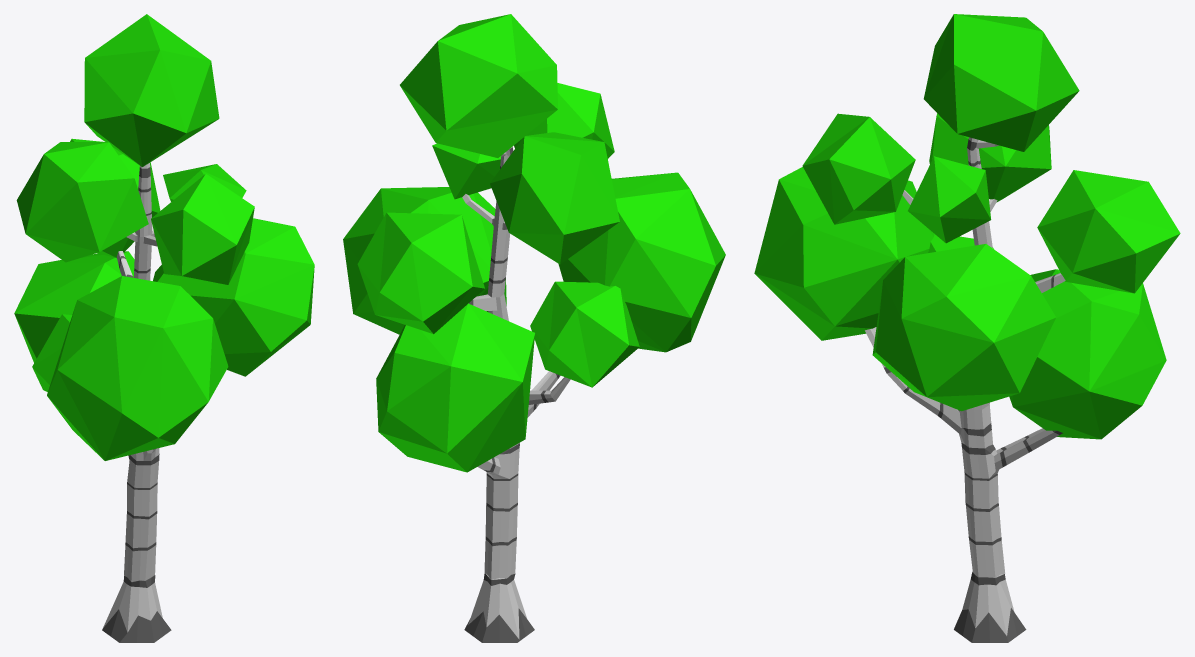
Rendered from birch.fbx.
The picture shows the model from 3 angles, left to right: view 1: azimuth 30°, elevation 25°; view 2: azimuth 150°, elevation 25°; view 3: azimuth 270°, elevation 25°; orthographic projection. The views are drawn at different scales.
Parts seen in each view (by area): view 1: Icosphere.003, stump; view 2: Icosphere.003, stump; view 3: Icosphere.003, stump.
Part boxes in pixels (box(x1,y1,x2,y2)): Icosphere.003: box(14, 14, 314, 581); stump: box(102, 575, 171, 642); Icosphere.003: box(343, 14, 725, 579); stump: box(464, 573, 534, 642); Icosphere.003: box(754, 14, 1180, 577); stump: box(954, 572, 1026, 642).
Size of the model in its own units: 235 by 446 by 279.
